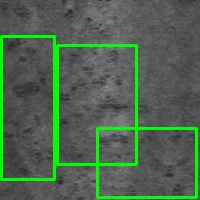rolled-in_scale: (57, 45, 136, 164), (1, 36, 54, 179), (97, 128, 196, 197)
